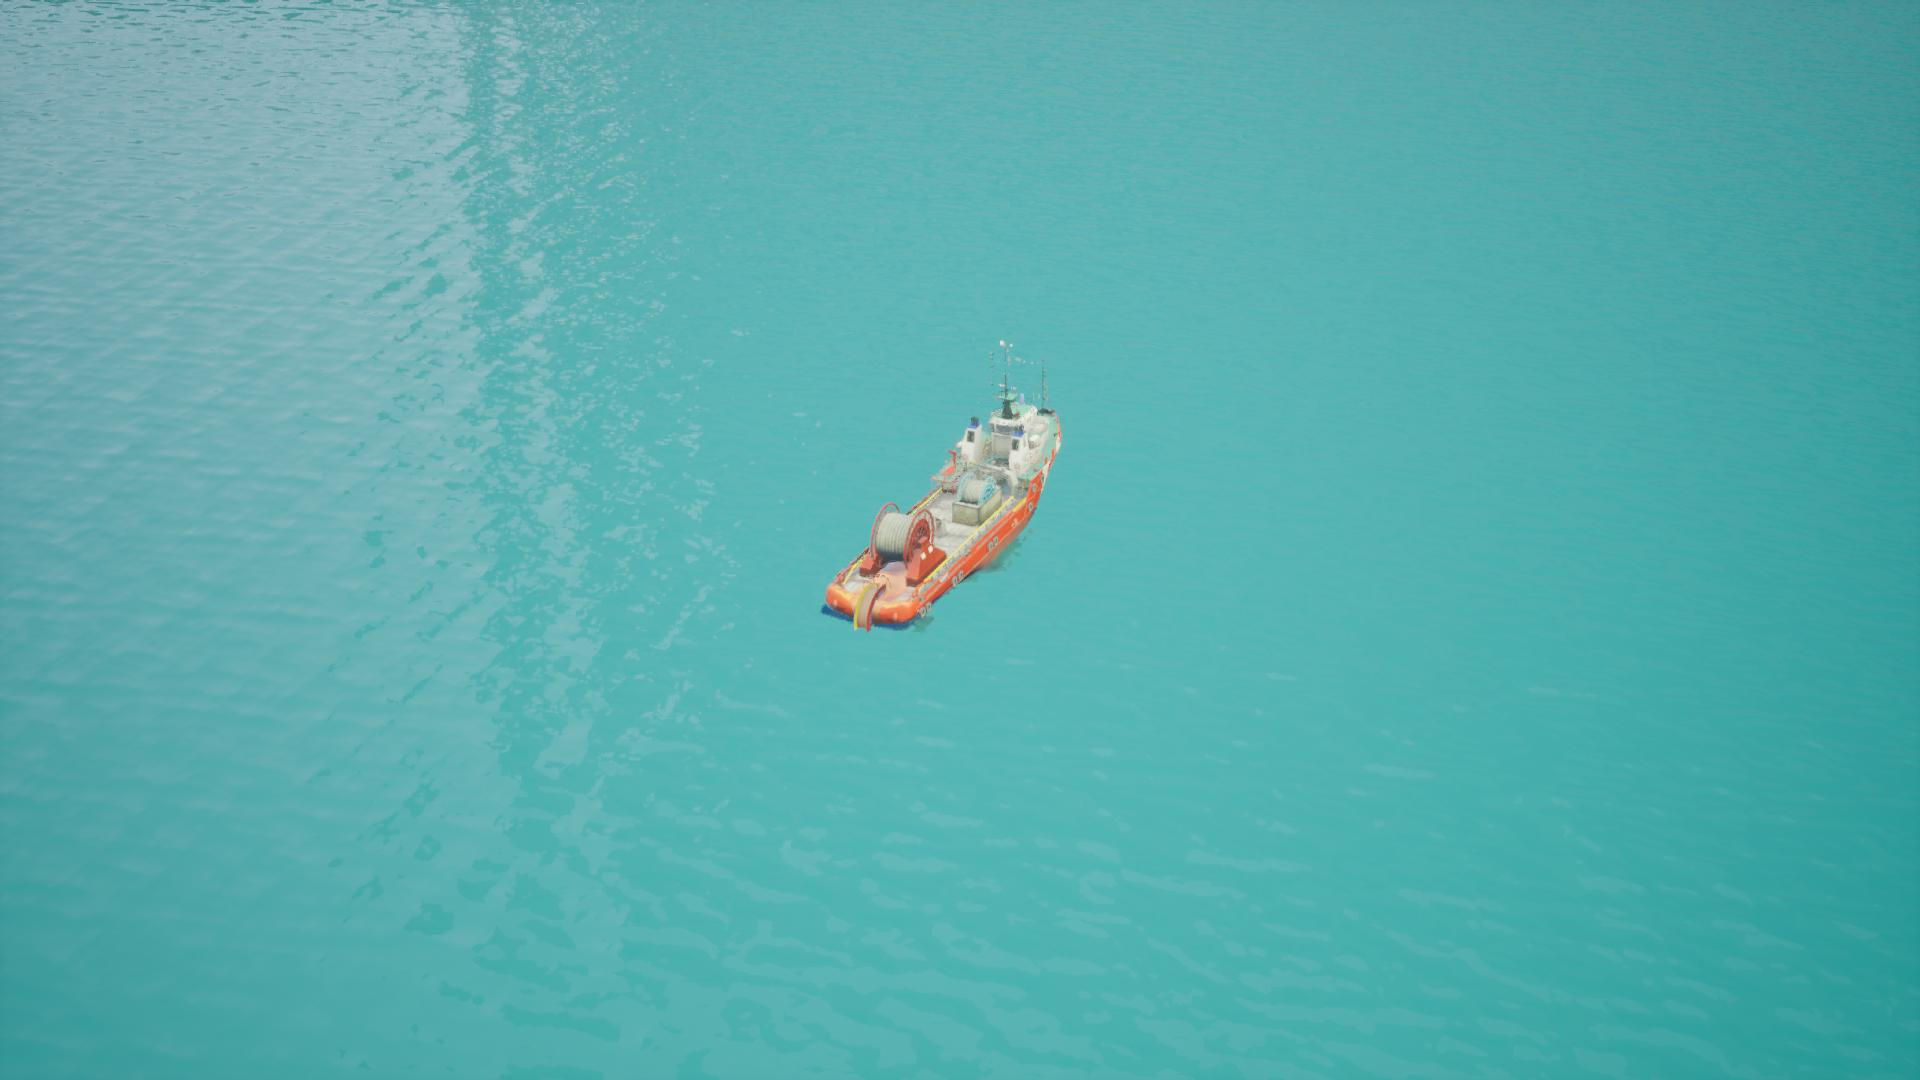Tug Boat: (891, 340, 1062, 632)
